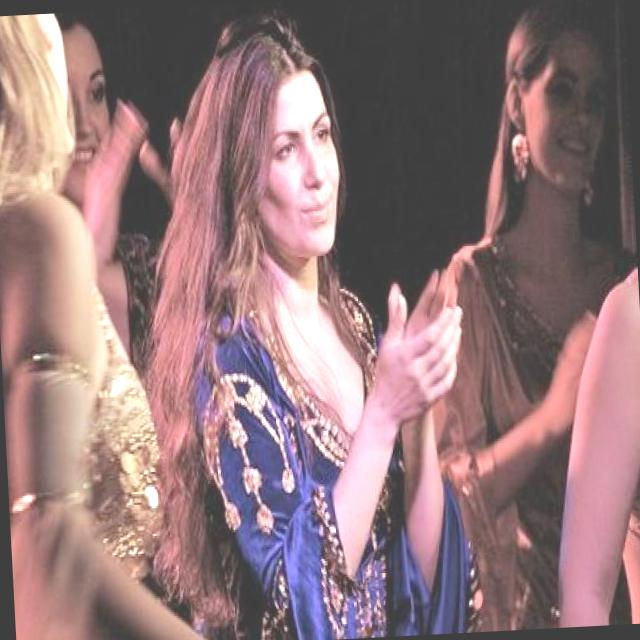no_vest: (198, 253, 468, 640)
